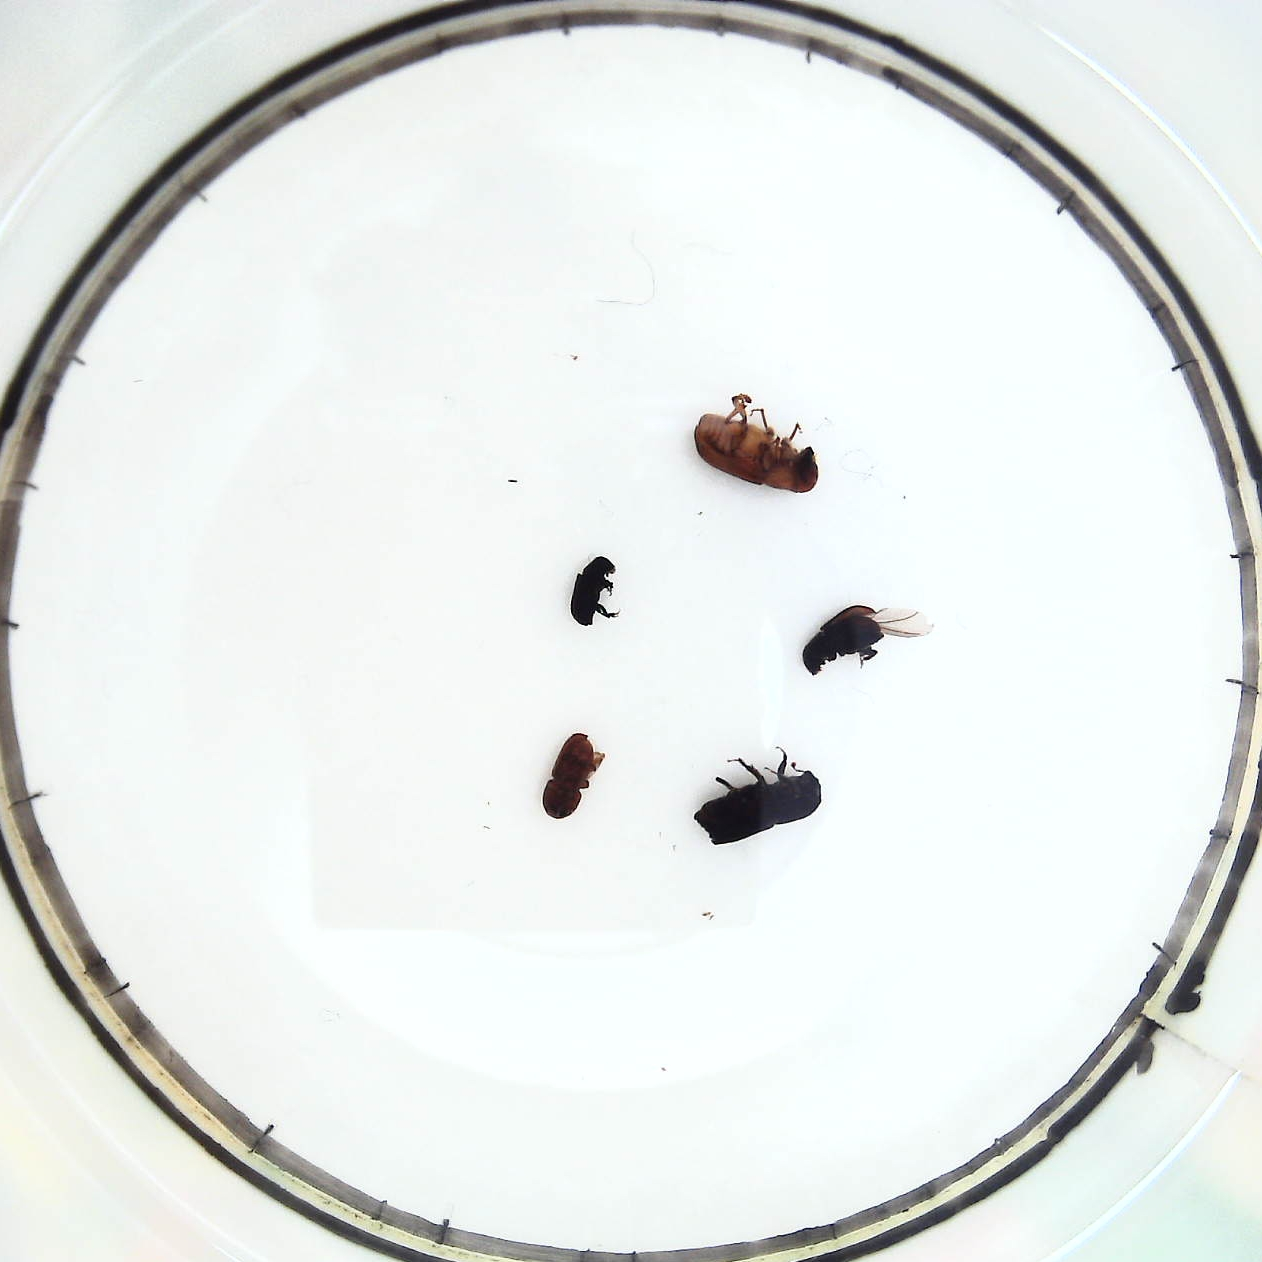Boerner: (691, 743, 827, 848)
Leconte: (689, 385, 823, 500)
armandi: (804, 597, 916, 680)
coleoptera: (570, 548, 626, 634)
linnaeus: (540, 729, 609, 817)
